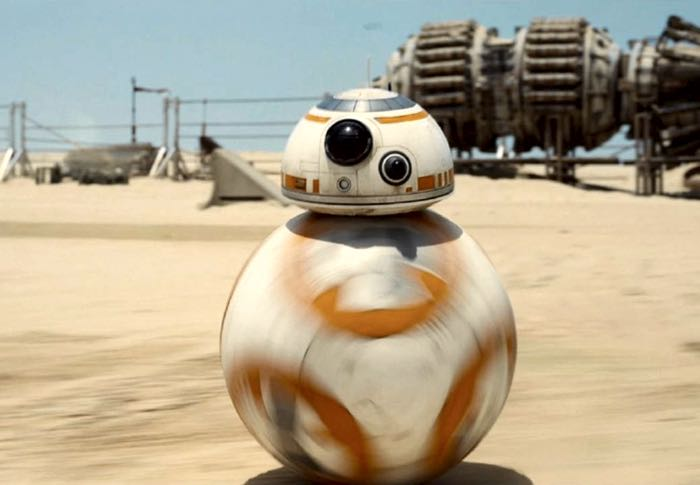bb8: (219, 88, 519, 485)
